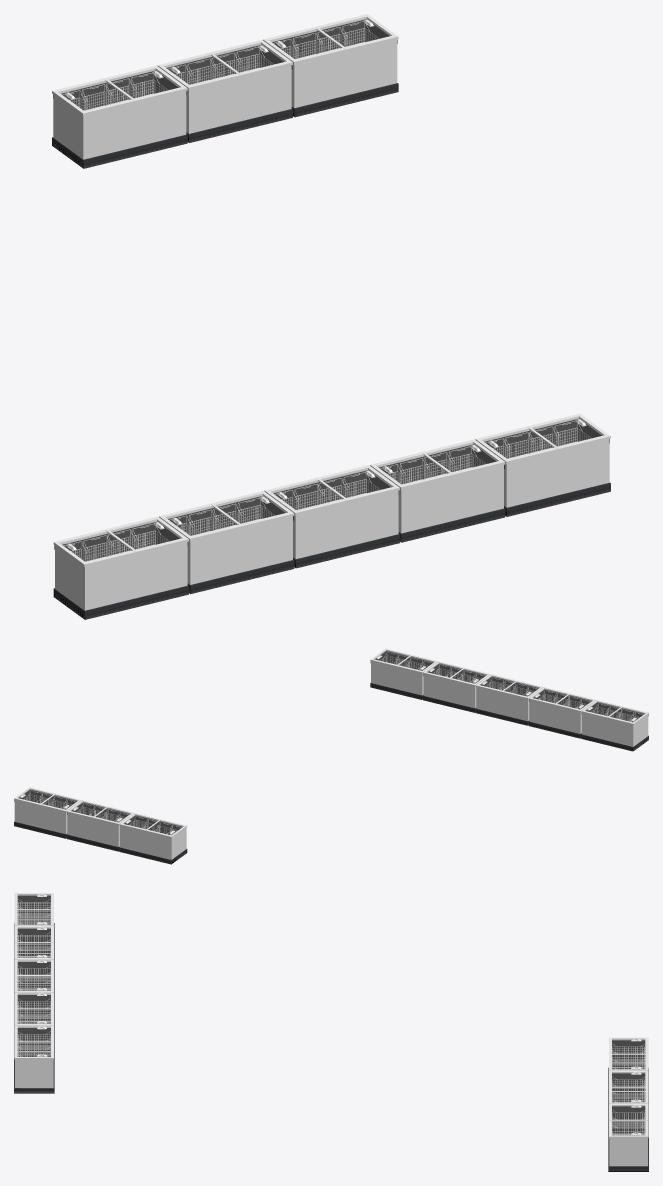
Rendered from tungang.glb.
3 views of the same model, one above another, from view 1: azimuth 30°, elevation 25°; view 2: azimuth 150°, elevation 25°; view 3: azimuth 270°, elevation 25° (orthographic). The views are drawn at different scales.
Visible parts, largest first — view 1: Cube.057, Cube.063, Cube.064, Cube.065, Cube.061, Cube.058, Cube.062, Cube.060; view 2: Cube.057, Cube.063, Cube.061, Cube.060, Cube.064, Cube.062, Cube.065, Cube.058; view 3: Cube.058, Cube.064, Cube.057, Cube.065, Cube.060, Cube.061, Cube.062, Cube.063.
Boxes of the visible parts, <box> form: Cube.057: <box>52,65,187,168</box>; Cube.063: <box>53,516,188,619</box>; Cube.064: <box>263,14,398,117</box>; Cube.065: <box>157,40,292,142</box>; Cube.061: <box>264,465,399,568</box>; Cube.058: <box>475,413,610,516</box>; Cube.062: <box>159,491,294,594</box>; Cube.060: <box>370,439,505,542</box>; Cube.057: <box>119,813,187,864</box>; Cube.063: <box>581,700,648,751</box>; Cube.061: <box>475,674,543,725</box>; Cube.060: <box>423,661,490,712</box>; Cube.064: <box>14,787,81,838</box>; Cube.062: <box>528,687,595,738</box>; Cube.065: <box>66,800,133,851</box>; Cube.058: <box>370,648,437,699</box>; Cube.058: <box>14,1025,54,1093</box>; Cube.064: <box>608,1103,648,1171</box>; Cube.057: <box>608,1037,648,1100</box>; Cube.065: <box>608,1070,648,1133</box>; Cube.060: <box>14,992,54,1055</box>; Cube.061: <box>14,959,54,1022</box>; Cube.062: <box>14,926,54,989</box>; Cube.063: <box>14,893,54,956</box>.
Bounding box in the file's own units: 13.17 × 0.9163 × 14.51.
7 materials, 2 textured.
